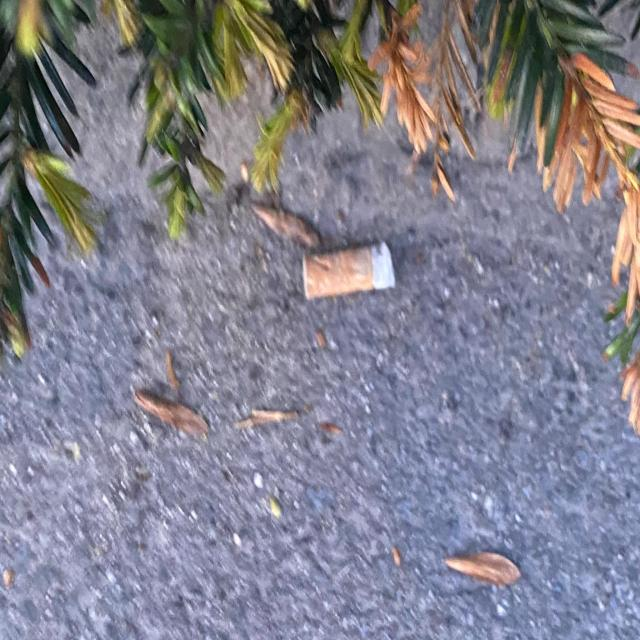other waste: (302, 240, 396, 300)
